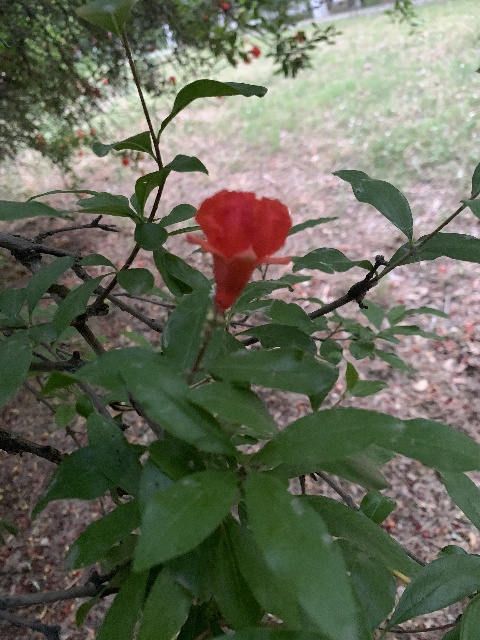flower: (184, 189, 293, 313), (250, 45, 260, 58)
